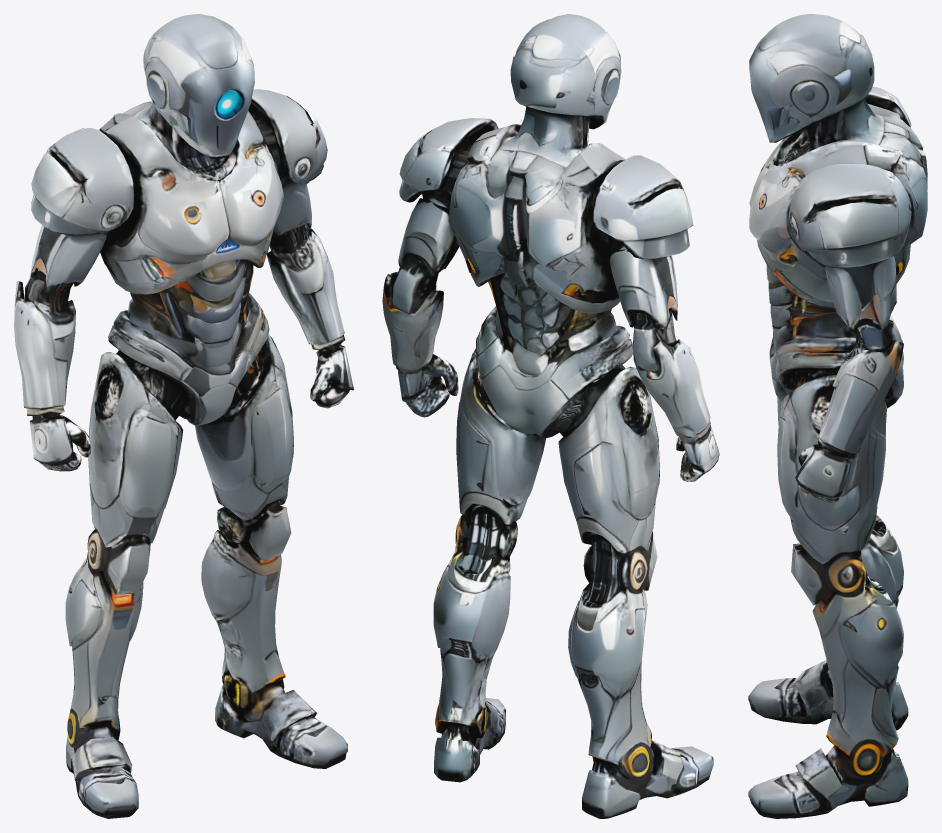
The model's file is robot.glb.
The picture shows the model from 3 angles, left to right: view 1: azimuth 30°, elevation 25°; view 2: azimuth 150°, elevation 25°; view 3: azimuth 270°, elevation 25°; orthographic projection.
Visible parts, largest first — view 1: model; view 2: model; view 3: model.
Boxes of the visible parts, bbox=[...] form: model: bbox=[14, 14, 353, 818]; model: bbox=[382, 14, 719, 818]; model: bbox=[748, 14, 927, 818].
Bounding box in the file's own units: 0.8302 × 1.9 × 0.4151.
Materials: 1 (1 with a texture image).
